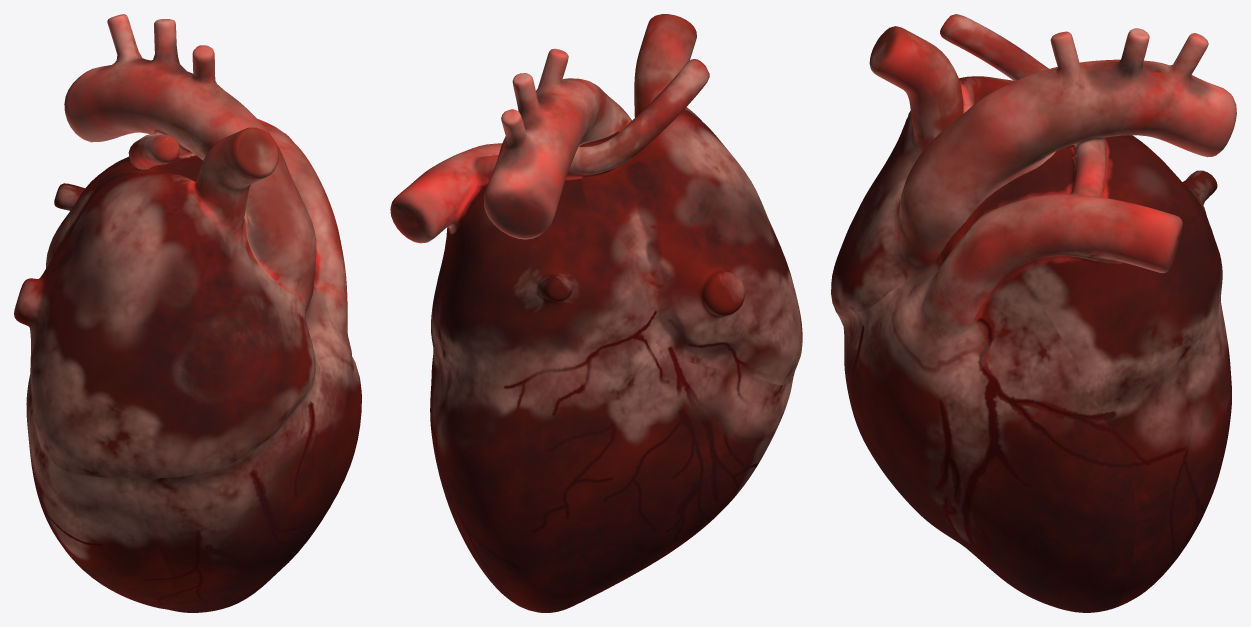
Rendered from Heart-01.gltf.
3 renders of one model, left to right at view 1: azimuth 30°, elevation 25°; view 2: azimuth 150°, elevation 25°; view 3: azimuth 270°, elevation 25°, orthographic. The views are drawn at different scales.
Visible parts, largest first — view 1: hart:ZBrush_defualt_group; view 2: hart:ZBrush_defualt_group; view 3: hart:ZBrush_defualt_group.
Boxes of the visible parts, x1,y1,x2,y2 form: hart:ZBrush_defualt_group: (14, 14, 361, 612); hart:ZBrush_defualt_group: (390, 14, 802, 612); hart:ZBrush_defualt_group: (831, 14, 1236, 612).
Bounding box in the file's own units: 5.54 × 9.22 × 5.88.
Materials: 1 (1 with a texture image).
